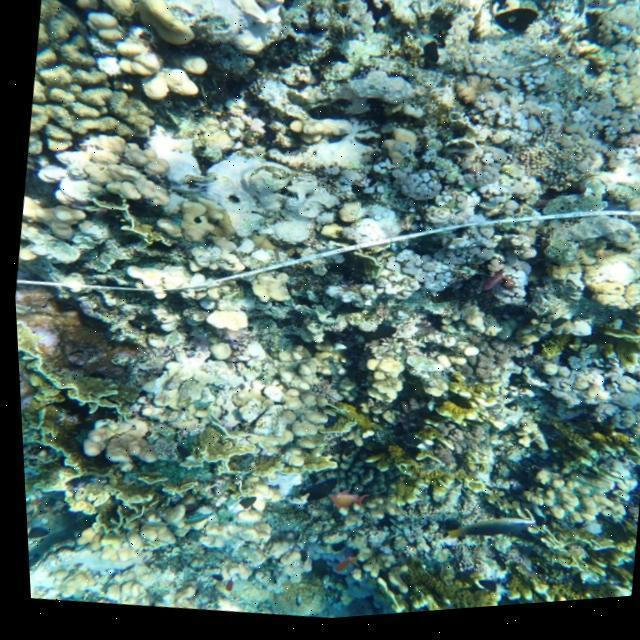Bleached Coral: (28, 129, 119, 226)
